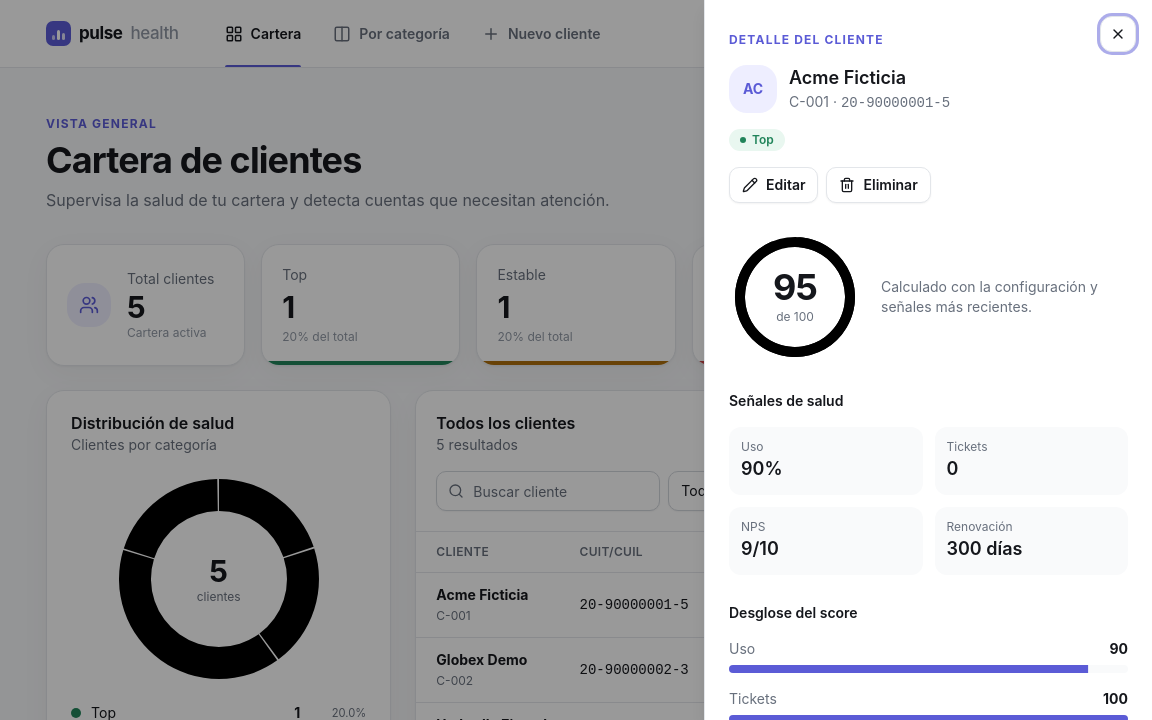
Editar cliente (US3, spec 004) › guarda, vuelve a modo lectura y refresca detalle y cartera
The image size is (1152, 720).
Click the button "Editar". click: (774, 185)
box: [729,167,818,203]
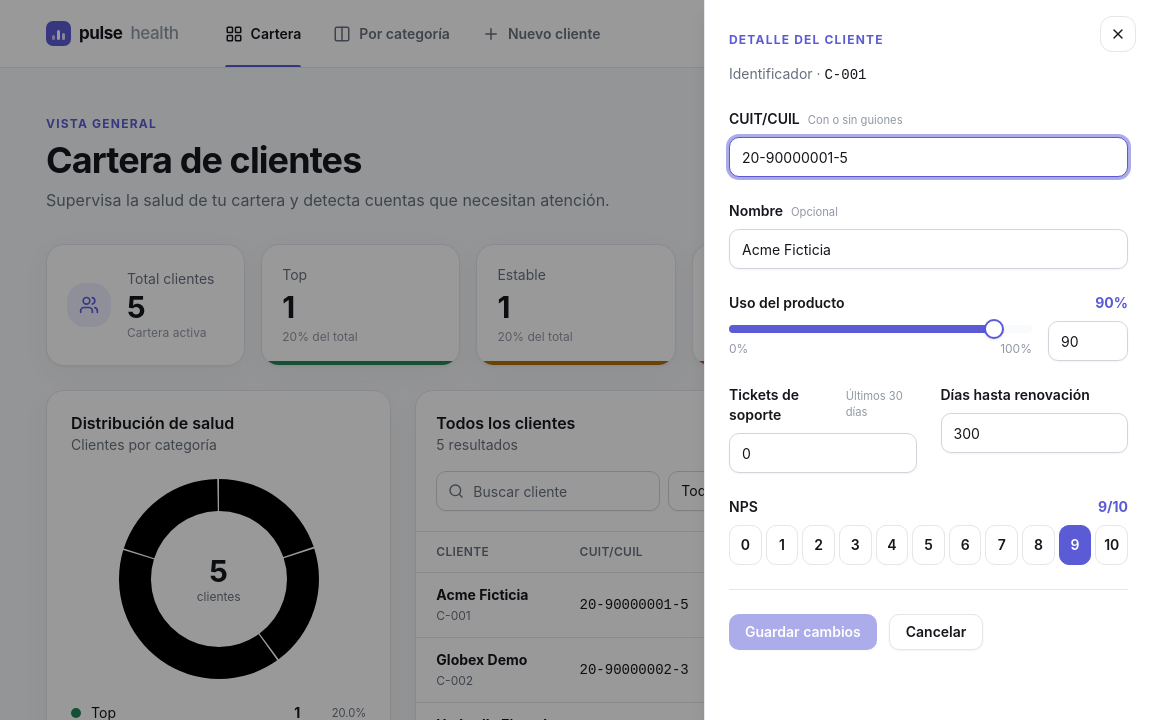
expect the field labelled "CUIT/CUIL" is shown: met, box [729,137,1128,177]
Click the radio button named "NPS 4". click: (892, 545)
box: [876,525,908,565]
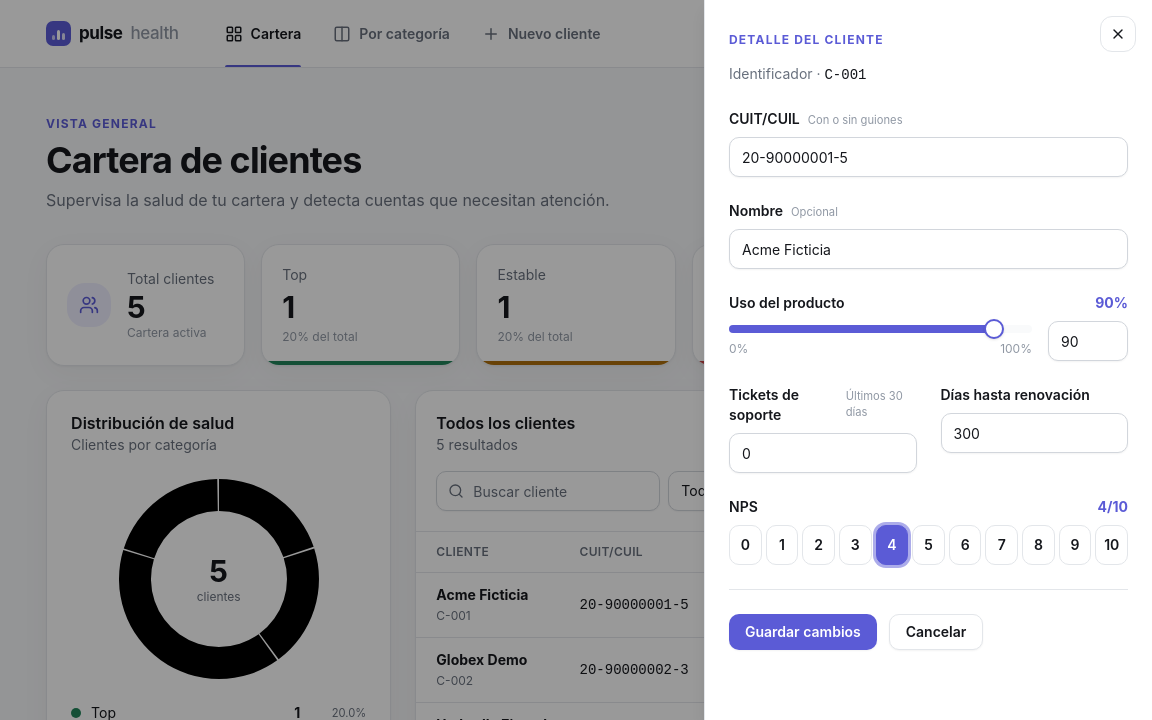
Click the button "Guardar cambios". click: (803, 632)
box: [729,614,877,650]
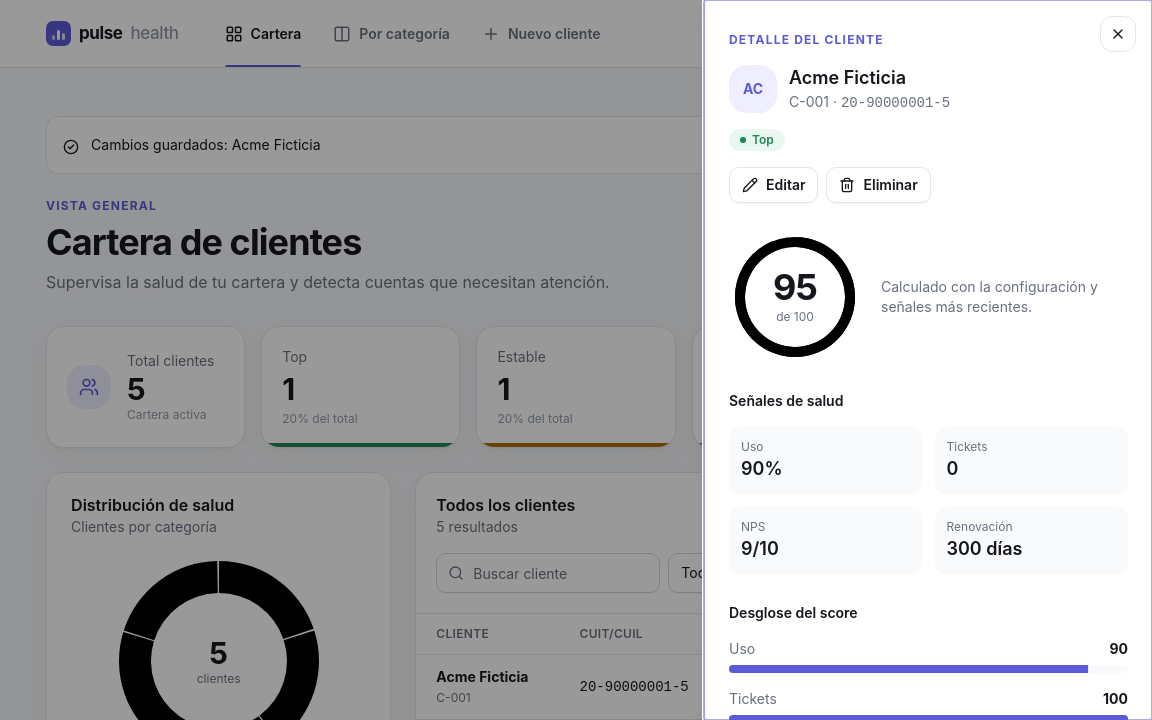
expect the text "Cambios guardados: Acme Ficticia" is shown: met, box [91,136,321,153]
expect the button "Editar" is shown: met, box [729,167,818,203]
